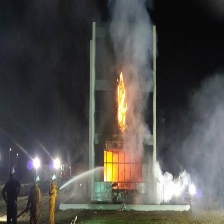fire: (111, 71, 131, 130), (103, 162, 117, 184)
smoke: (116, 1, 223, 206)
